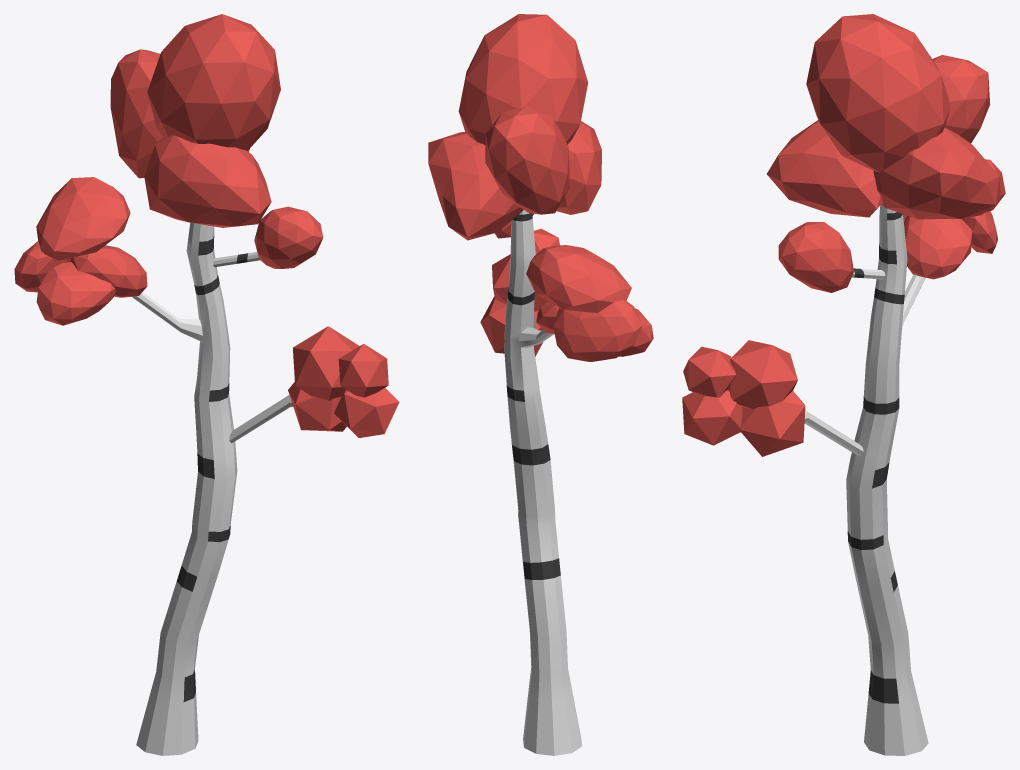
File: BirchTree1_SM.fbx
The picture shows the model from 3 angles, left to right: view 1: azimuth 30°, elevation 25°; view 2: azimuth 150°, elevation 25°; view 3: azimuth 270°, elevation 25°; orthographic projection. The views are drawn at different scales.
Visible parts, largest first — view 1: BirchTree1_SM; view 2: BirchTree1_SM; view 3: BirchTree1_SM.
Boxes of the visible parts, bbox=[...] form: BirchTree1_SM: bbox=[14, 14, 399, 755]; BirchTree1_SM: bbox=[428, 14, 653, 755]; BirchTree1_SM: bbox=[682, 14, 1005, 755].
Bounding box in the file's own units: 176 × 481 × 190.
